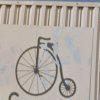Bicycle: (11, 29, 79, 100)
